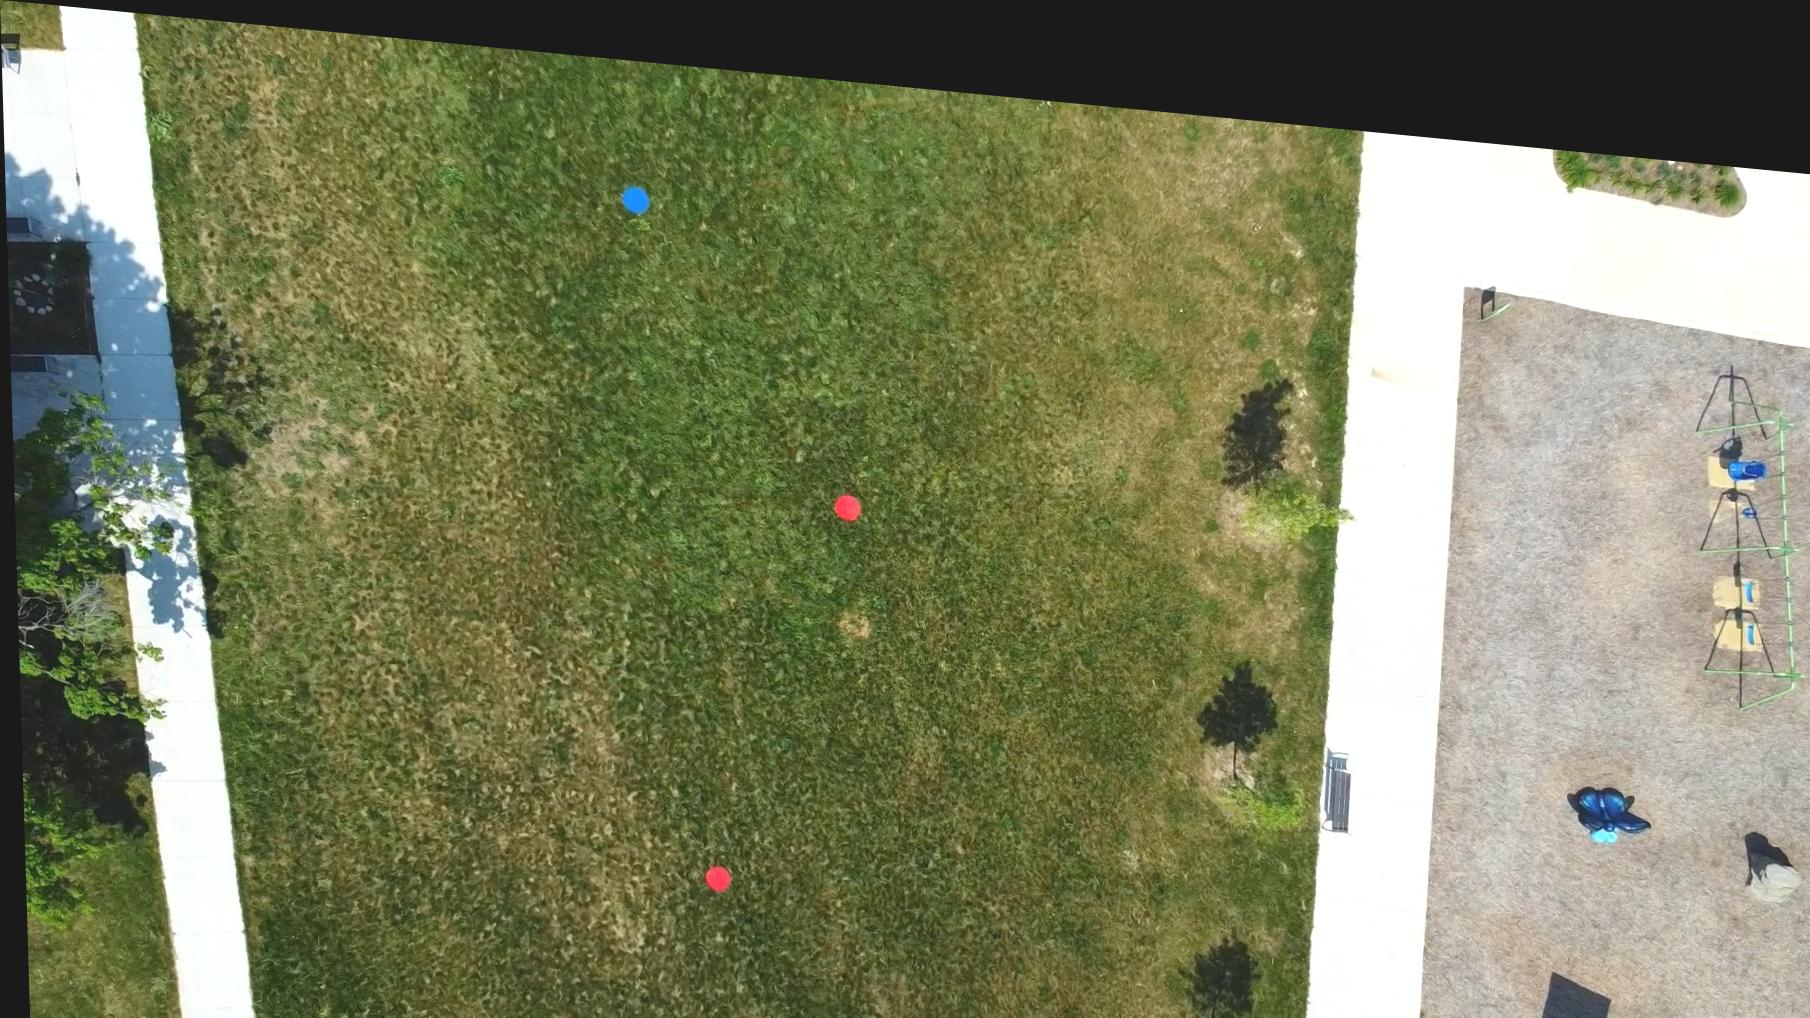Blue: (622, 173, 649, 203)
Red: (830, 477, 860, 506), (700, 850, 726, 879)
